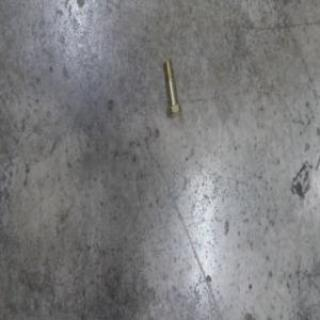Bolttrack_idkeyframe: (162, 58, 181, 119)
